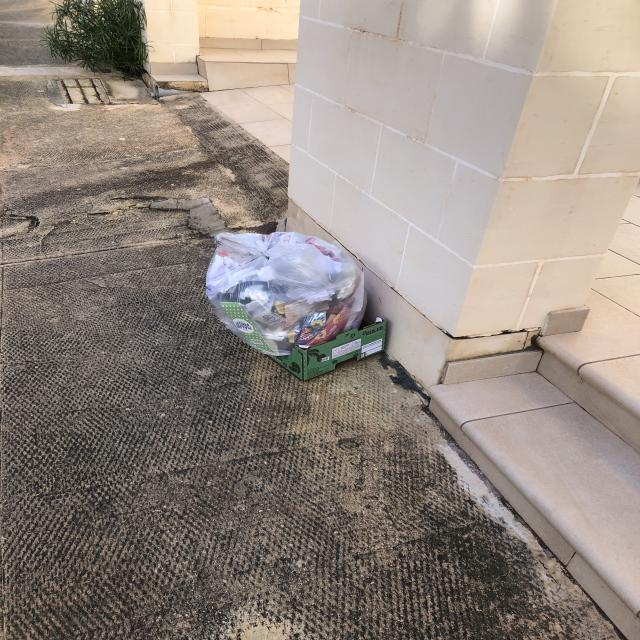Other: (204, 229, 367, 360)
